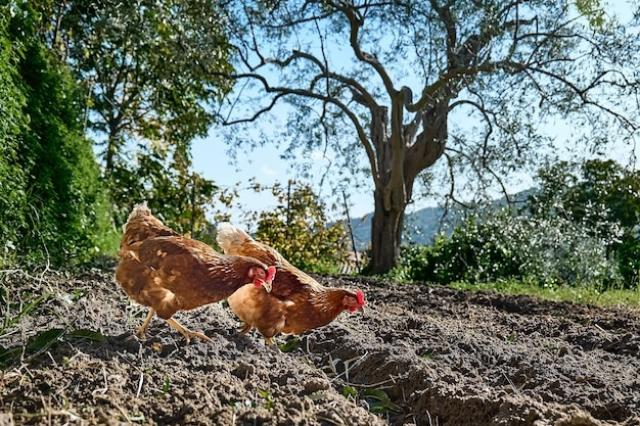Chicken: (118, 202, 276, 347), (216, 220, 367, 346)
